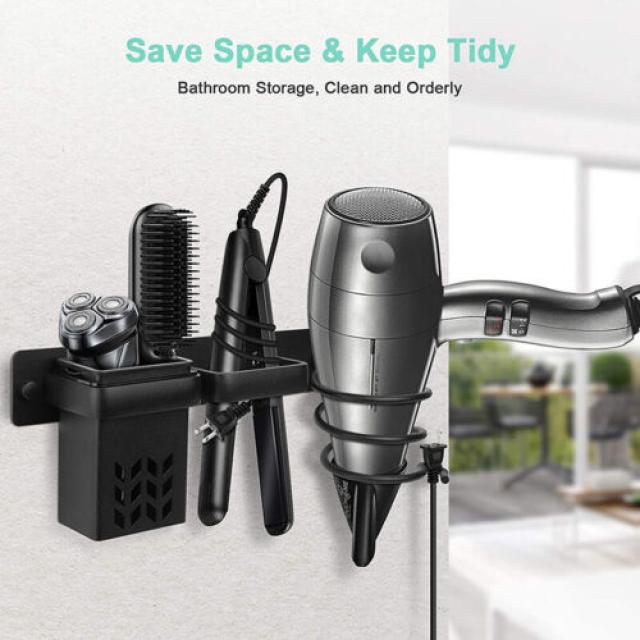dryer: (282, 164, 637, 575)
